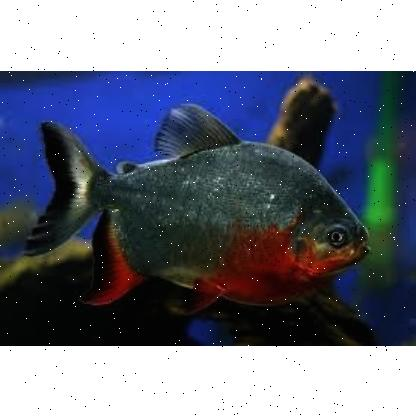ikan-pacu: (33, 116, 373, 310)
